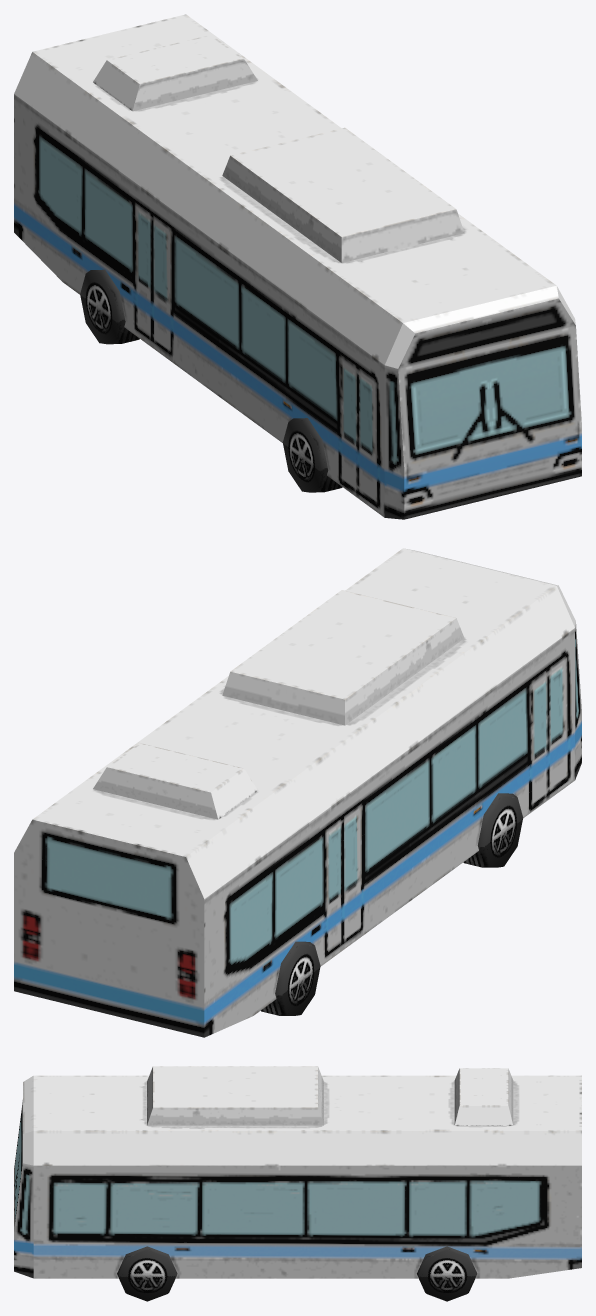
Rendered from Bus.fbx.
The picture shows the model from 3 angles, top to bottom: view 1: azimuth 30°, elevation 25°; view 2: azimuth 150°, elevation 25°; view 3: azimuth 270°, elevation 25°; orthographic projection. The views are drawn at different scales.
Visible parts, largest first — view 1: pCube8, FrontRightWheel, BackRightWheel; view 2: pCube8, FrontRightWheel, BackRightWheel; view 3: pCube8, FrontLeftWheel, BackLeftWheel.
Part boxes in pixels (bbox=[...]): pCube8: bbox=[14, 14, 581, 519]; FrontRightWheel: bbox=[282, 418, 342, 492]; BackRightWheel: bbox=[80, 269, 139, 344]; pCube8: bbox=[14, 548, 581, 1037]; FrontRightWheel: bbox=[463, 793, 523, 867]; BackRightWheel: bbox=[261, 941, 320, 1015]; pCube8: bbox=[14, 1066, 581, 1278]; FrontLeftWheel: bbox=[117, 1246, 177, 1301]; BackLeftWheel: bbox=[417, 1246, 477, 1301].
Bounding box in the file's own units: 294 × 339 × 966.
